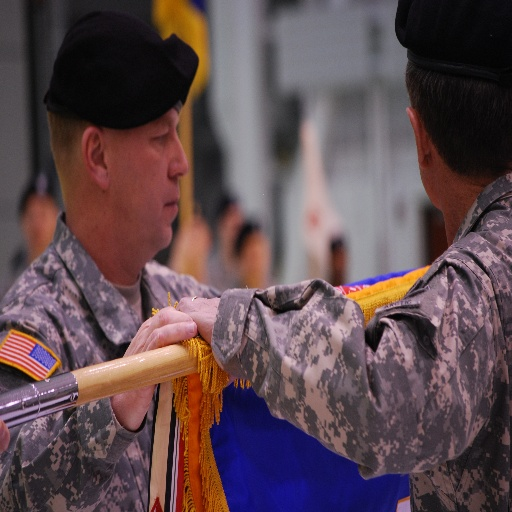hand: (132, 312, 193, 372), (176, 294, 221, 346)
